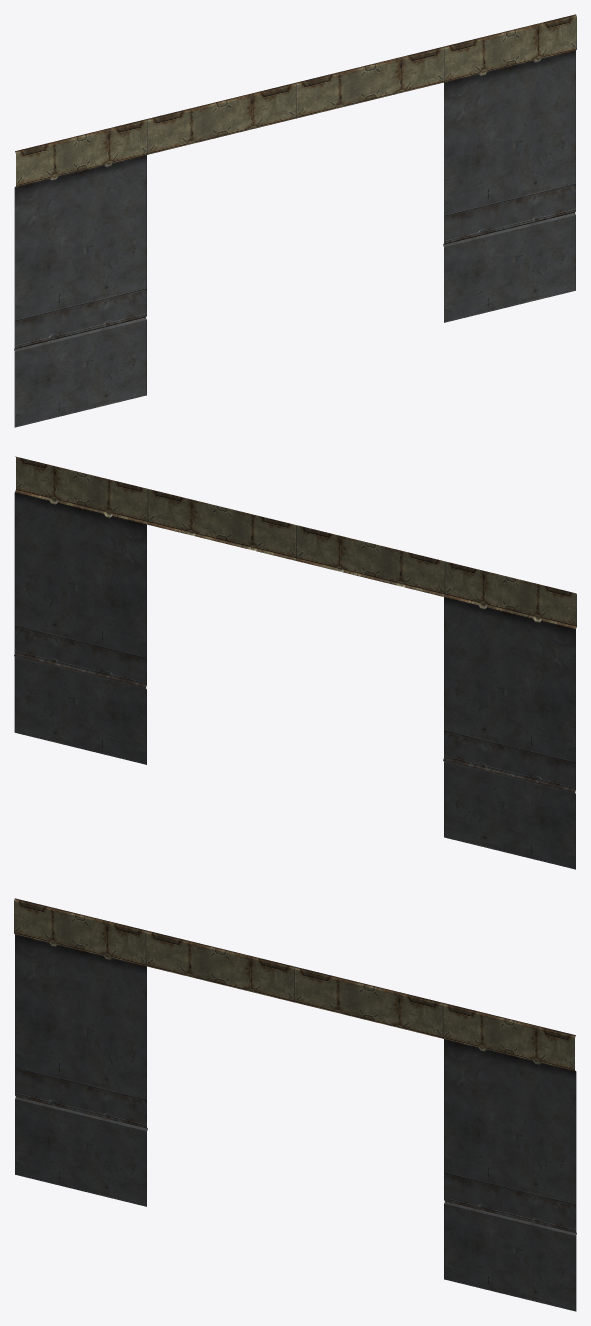
Rendered from datasite_doorway_omicron.dae.
3 views of the same model, one above another, from view 1: azimuth 30°, elevation 25°; view 2: azimuth 150°, elevation 25°; view 3: azimuth 330°, elevation 25° (orthographic).
Parts seen in each view (by area): view 1: doorway_large; view 2: doorway_large; view 3: doorway_large.
Boxes of the visible parts, x1,y1,x2,y2 form: doorway_large: (14, 14, 576, 427); doorway_large: (14, 456, 576, 869); doorway_large: (14, 898, 576, 1311).
Bounding box in the file's own units: 8.5 × 4 × 0.0483.
1 material, 1 textured.
